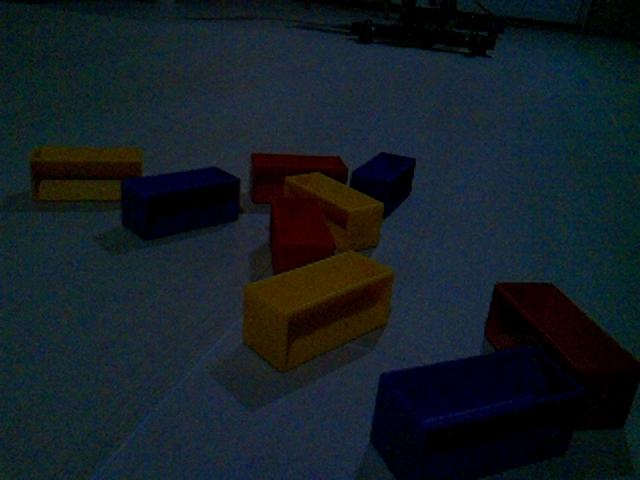blue: (369, 342, 585, 479), (119, 164, 243, 242), (350, 149, 418, 219)
red: (483, 278, 639, 431), (248, 150, 350, 204), (268, 194, 336, 274)
yellow: (241, 249, 396, 372), (282, 170, 385, 251), (28, 144, 144, 204)
